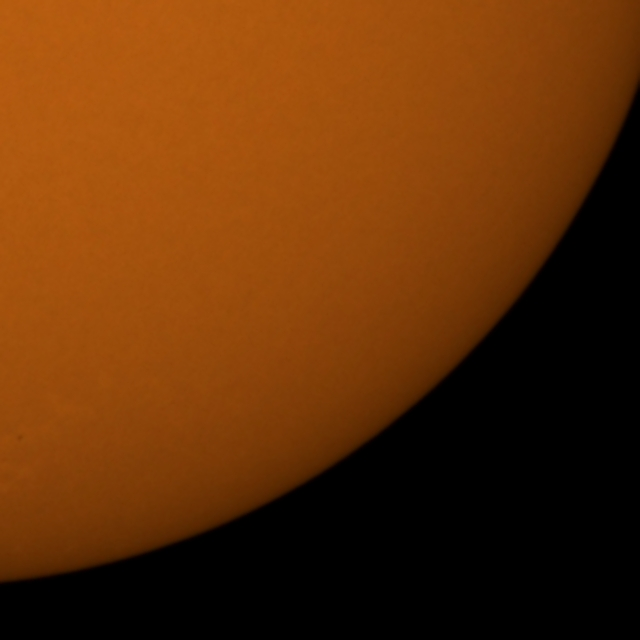sunspot: (15, 432, 26, 444)
